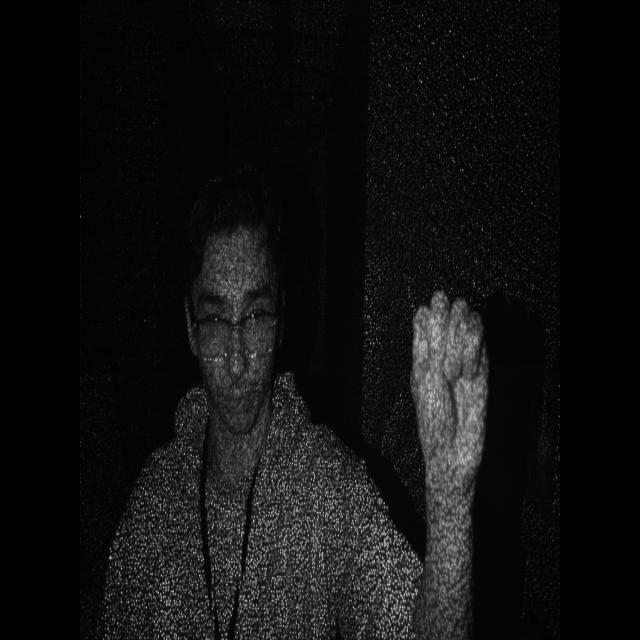M: (403, 270, 491, 497)
